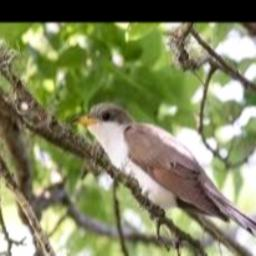Cuckoo: (71, 102, 256, 256)
